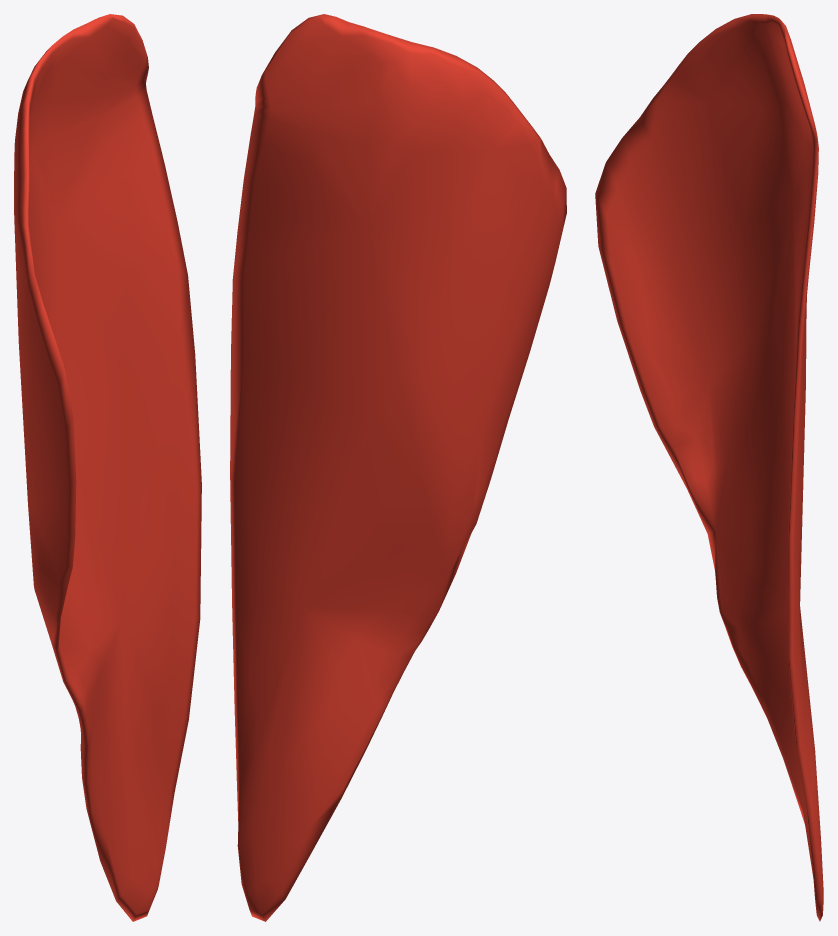
File: Solear_on_solear_crest_on_fibular_head.l_Generated_Mesh_From_X3.glb
The picture shows the model from 3 angles, left to right: view 1: azimuth 30°, elevation 25°; view 2: azimuth 150°, elevation 25°; view 3: azimuth 270°, elevation 25°; orthographic projection. The views are drawn at different scales.
Parts seen in each view (by area): view 1: Solear_on_solear_crest_on_fibular_head.l_Generated_Mesh_From; view 2: Solear_on_solear_crest_on_fibular_head.l_Generated_Mesh_From; view 3: Solear_on_solear_crest_on_fibular_head.l_Generated_Mesh_From.
Part boxes in pixels (box(x1,y1,x2,y2)): Solear_on_solear_crest_on_fibular_head.l_Generated_Mesh_From: box(14, 14, 201, 921); Solear_on_solear_crest_on_fibular_head.l_Generated_Mesh_From: box(230, 14, 566, 921); Solear_on_solear_crest_on_fibular_head.l_Generated_Mesh_From: box(595, 14, 823, 921).
Bounding box in the file's own units: 0.0141 × 0.0504 × 0.0121.
